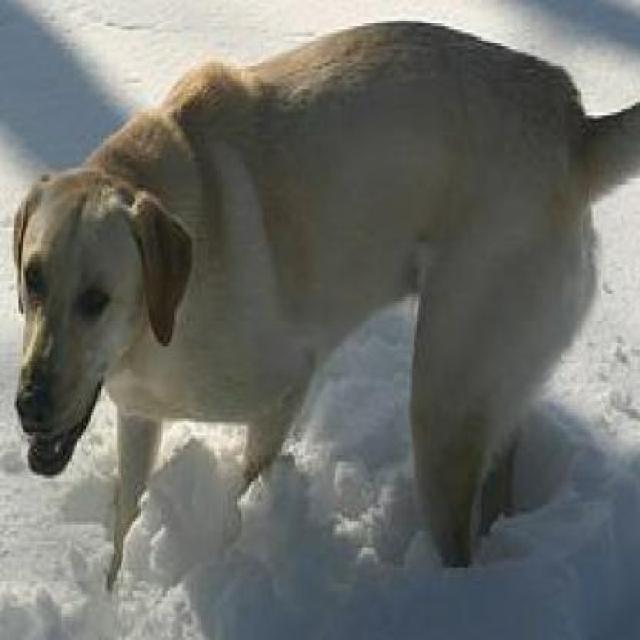Dog: (0, 15, 638, 587)
